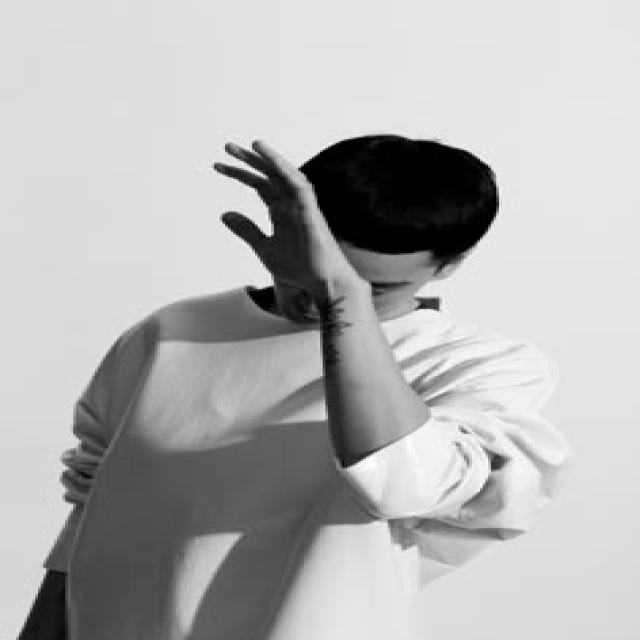7_mano_rostro: (232, 150, 378, 362)
